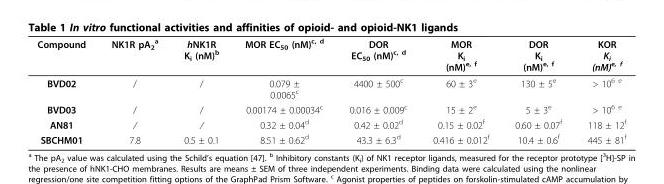table: (36, 36, 625, 145)
table column: (231, 36, 335, 145), (335, 36, 419, 145), (419, 36, 501, 145), (97, 36, 170, 145), (501, 36, 573, 145), (36, 36, 97, 145), (170, 36, 231, 145), (573, 36, 625, 145)
table column header: (36, 36, 625, 74)
table row: (36, 36, 625, 74), (36, 74, 625, 101), (36, 101, 625, 116), (36, 116, 625, 131), (36, 131, 625, 145)
